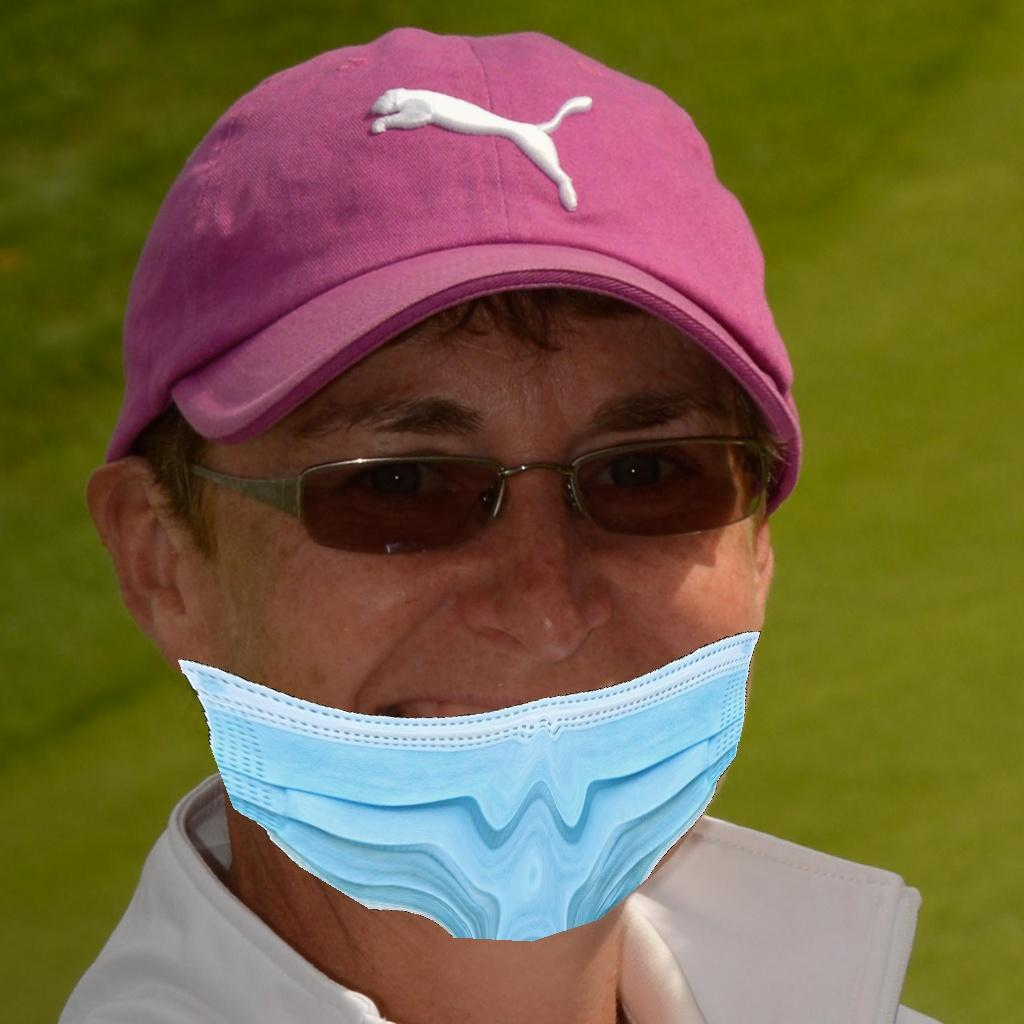Máscara Incorreta: (106, 318, 834, 936)
